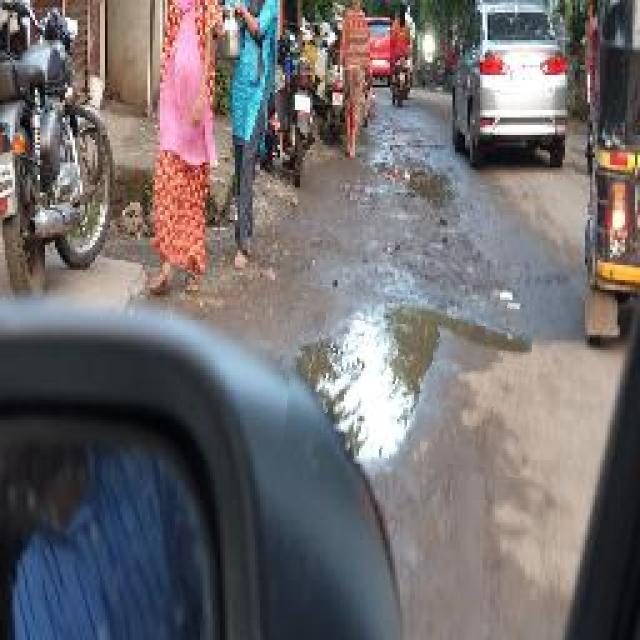puddle: (287, 290, 533, 474)
